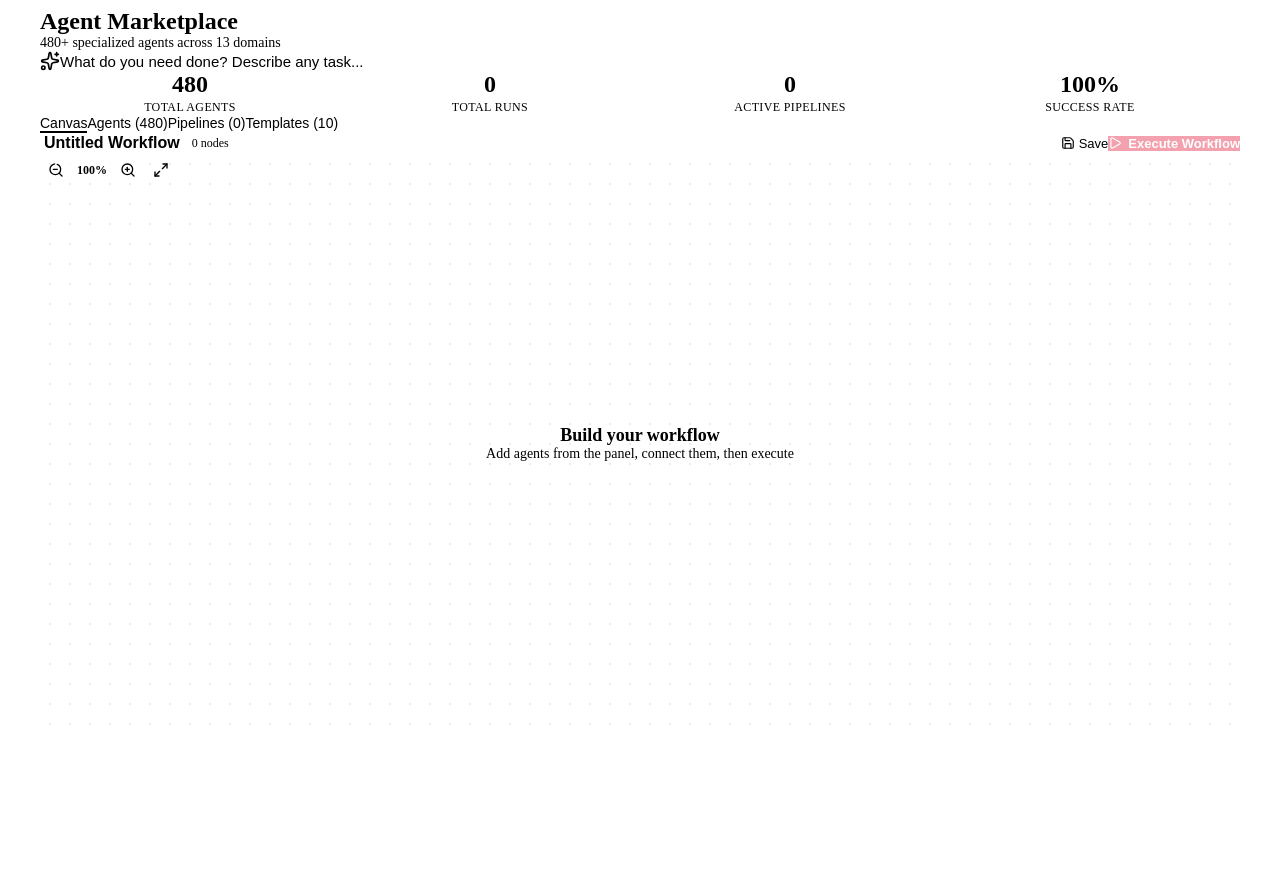
Test: AIAgentsPage › shows empty message when no agents match search
Click the tab "Agents (480)".
click(128, 124)  # box [88,115,168,133]
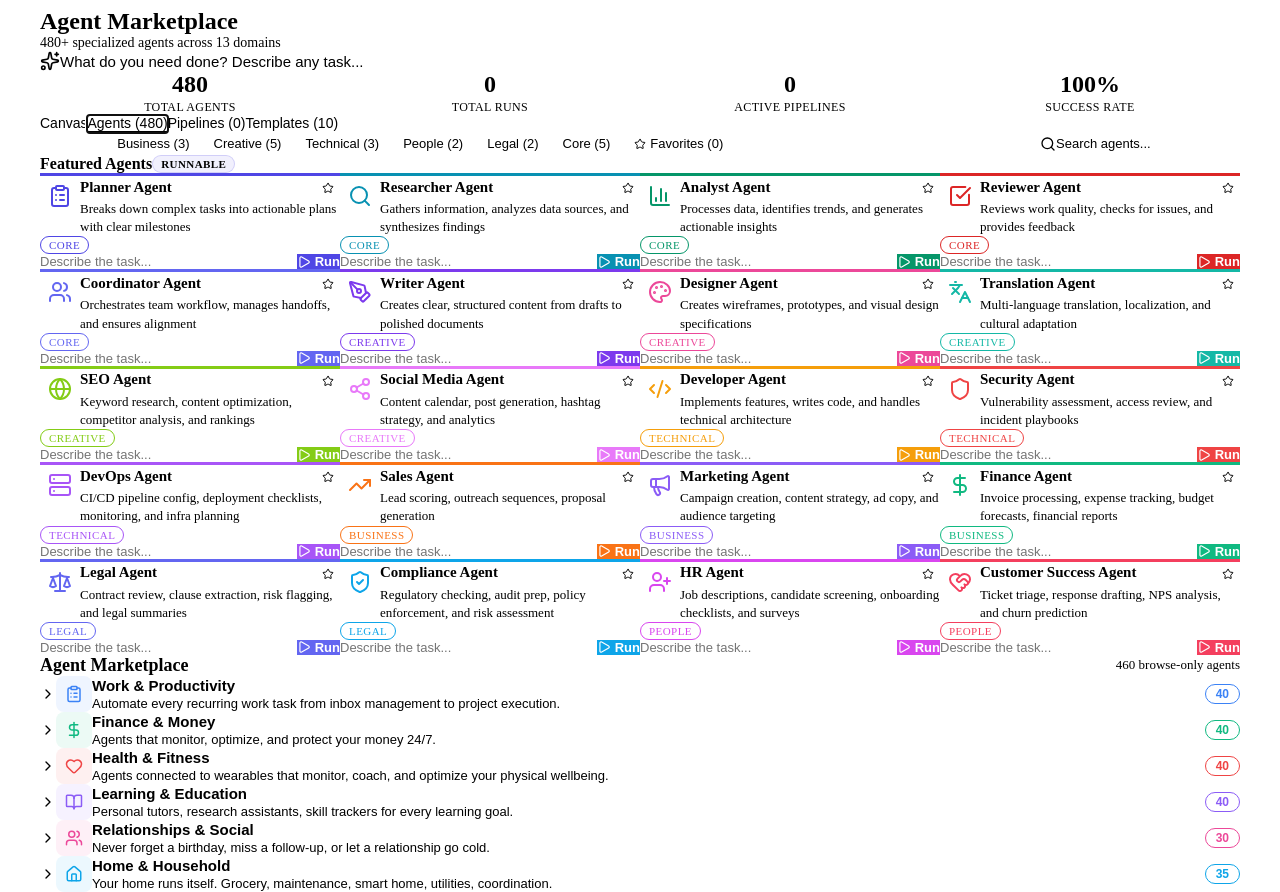
Type "xyznonexistent" into the field labelled "Search agents".
click(1148, 144); type("xyznonexistent")  # box [1056,134,1240,153]
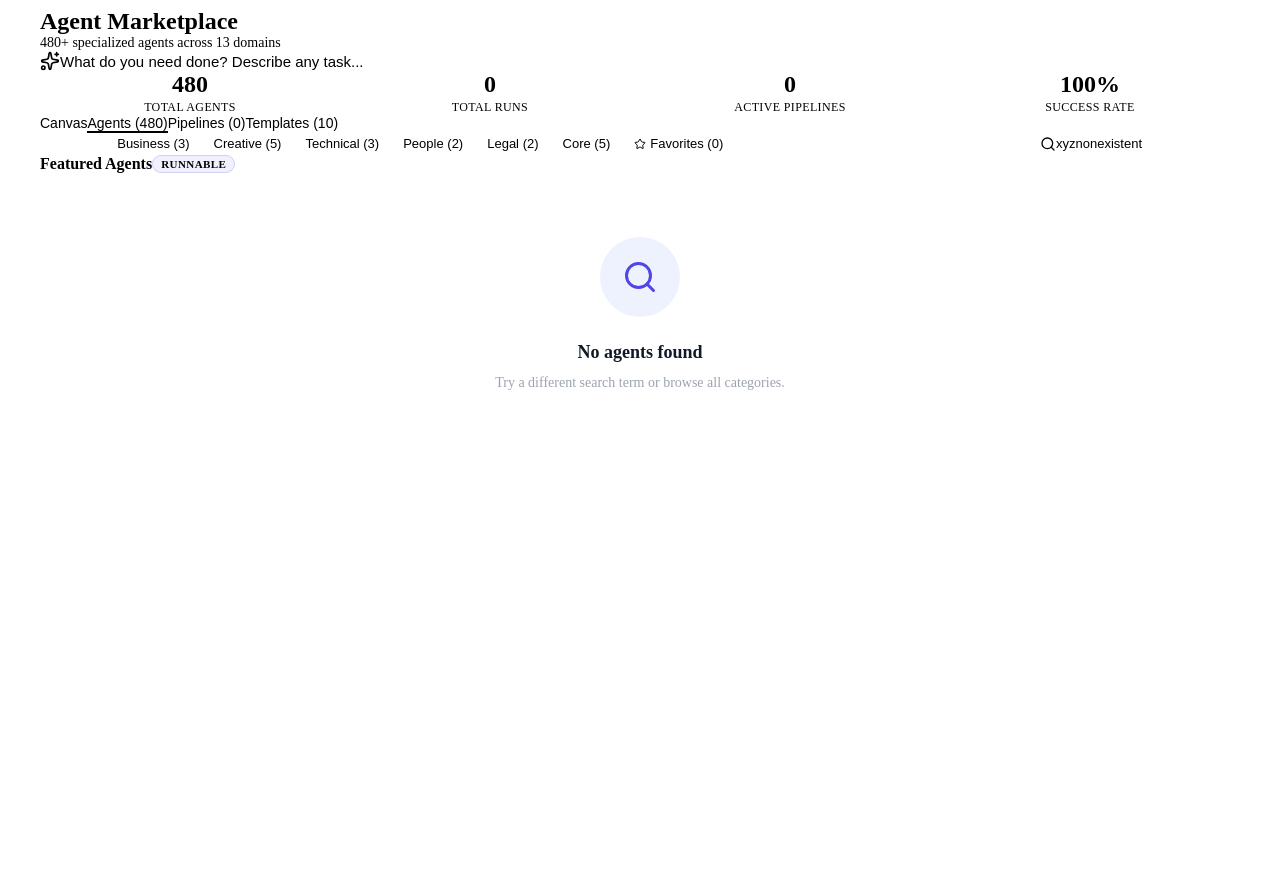
Expected: the heading "No agents found" is shown, [578,341,702,364]
Expected: the text "Try a different search term or browse all categories." is shown, [495,372,785,392]
